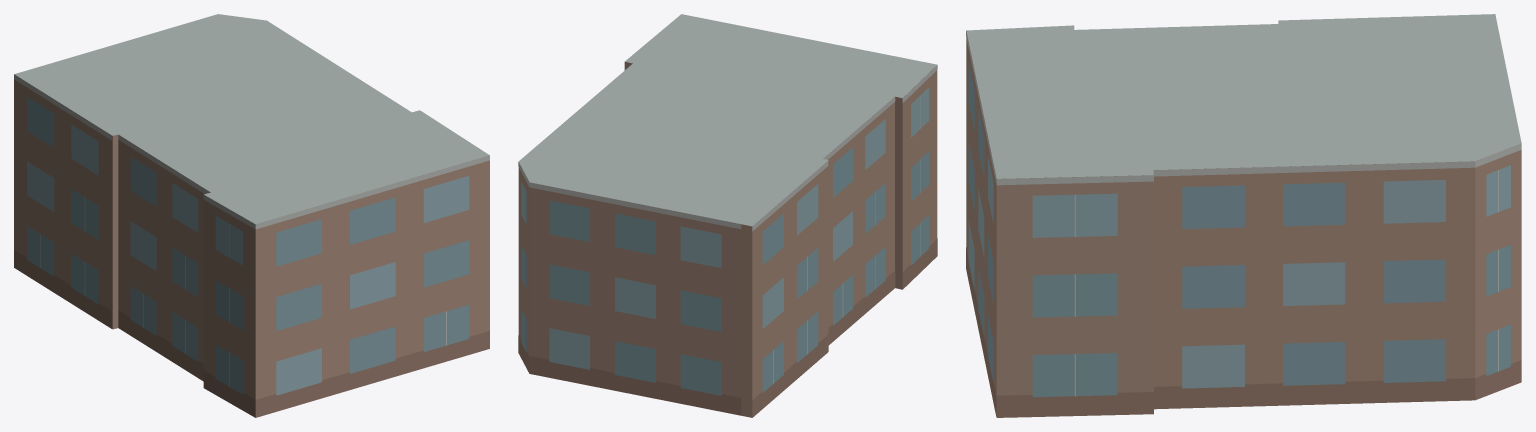
Rendered from survey-upis-32757050.glb.
3 renders of one model, left to right at view 1: azimuth 30°, elevation 25°; view 2: azimuth 150°, elevation 25°; view 3: azimuth 270°, elevation 25°, orthographic. The views are drawn at different scales.
Visible parts, largest first — view 1: survey-upis-32757050.tmp; view 2: survey-upis-32757050.tmp; view 3: survey-upis-32757050.tmp.
Boxes of the visible parts, x1,y1,x2,y2 form: survey-upis-32757050.tmp: (14,14,489,417); survey-upis-32757050.tmp: (518,14,937,417); survey-upis-32757050.tmp: (966,14,1521,417).
Bounding box in the file's own units: 13.55 × 9.15 × 19.28.
